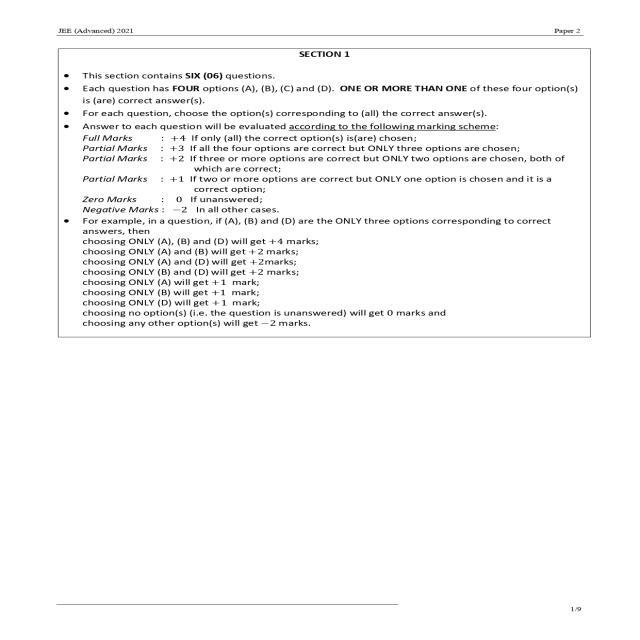Instruction: (39, 40, 610, 338)
Question_Paper_Area: (39, 40, 610, 592)
